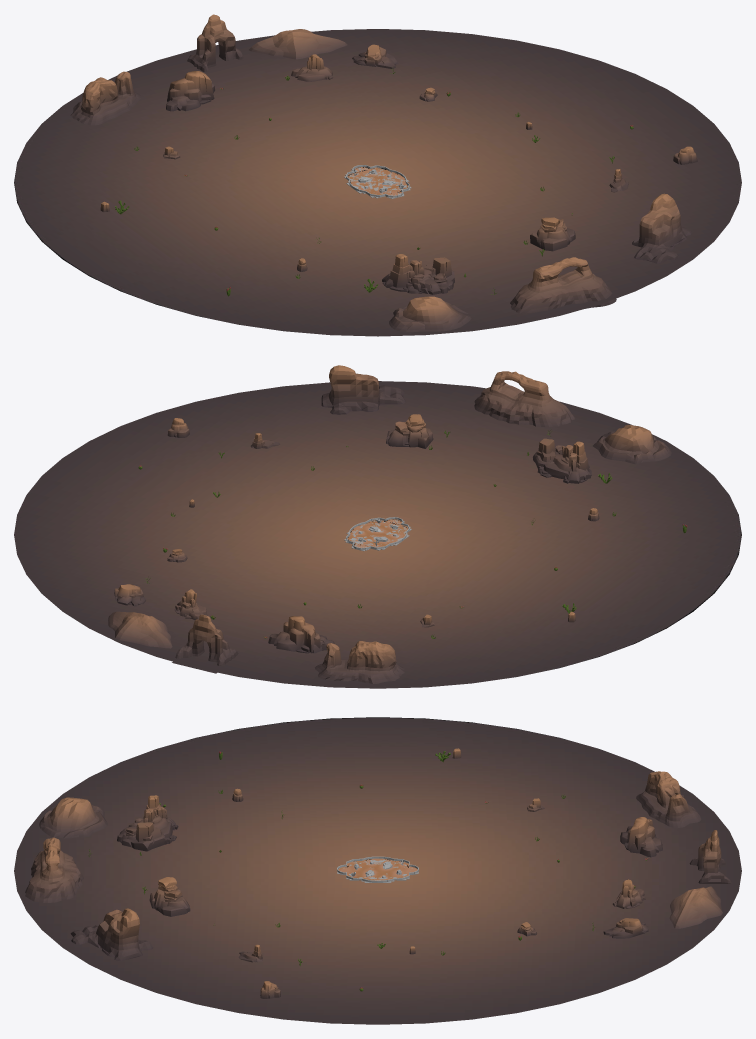
File: desert_level_05.gltf
3 renders of one model, top to bottom at view 1: azimuth 30°, elevation 25°; view 2: azimuth 150°, elevation 25°; view 3: azimuth 270°, elevation 25°, orthographic.
Parts seen in each view (by area): view 1: render_mesh_55, render_mesh_54, render_mesh_51, render_mesh_53, render_mesh_03, render_mesh_49, render_mesh_50, render_mesh_52, render_mesh_09, render_mesh_01, render_mesh_56, render_mesh_10 (+1 smaller); view 2: render_mesh_55, render_mesh_54, render_mesh_53, render_mesh_51, render_mesh_49, render_mesh_03, render_mesh_50, render_mesh_52, render_mesh_09, render_mesh_01, render_mesh_56, render_mesh_10 (+1 smaller); view 3: render_mesh_55, render_mesh_54, render_mesh_51, render_mesh_53, render_mesh_49, render_mesh_03, render_mesh_50, render_mesh_52, render_mesh_09, render_mesh_01, render_mesh_56, render_mesh_08 (+1 smaller).
Part boxes in pixels (x1,y1,x2,y2): render_mesh_55: (14,29,741,336); render_mesh_54: (510,257,616,313); render_mesh_51: (632,193,691,263); render_mesh_53: (70,71,141,125); render_mesh_03: (382,254,454,294); render_mesh_49: (389,296,471,332); render_mesh_50: (249,29,347,59); render_mesh_52: (187,14,243,72); render_mesh_09: (166,71,214,111); render_mesh_01: (530,217,575,251); render_mesh_56: (347,167,408,195); render_mesh_10: (291,54,332,81); render_mesh_55: (14,381,741,688); render_mesh_54: (474,371,574,427); render_mesh_53: (315,641,404,683); render_mesh_51: (321,365,405,414); render_mesh_49: (593,425,671,464); render_mesh_03: (533,438,591,483); render_mesh_50: (108,611,172,648); render_mesh_52: (172,614,238,673); render_mesh_09: (268,616,334,653); render_mesh_01: (386,414,433,448); render_mesh_56: (347,519,408,547); render_mesh_10: (174,589,207,619); render_mesh_55: (14,717,741,1024); render_mesh_54: (25,837,83,902); render_mesh_51: (70,908,153,960); render_mesh_53: (636,771,701,827); render_mesh_49: (39,797,107,838); render_mesh_03: (117,795,178,851); render_mesh_50: (669,886,722,928); render_mesh_52: (689,830,731,883); render_mesh_09: (620,817,662,857); render_mesh_01: (149,877,190,916); render_mesh_56: (338,858,417,880); render_mesh_08: (603,918,648,938).
Size of the model in its own units: 129 by 9.52 by 129.
8 materials, 7 textured.
